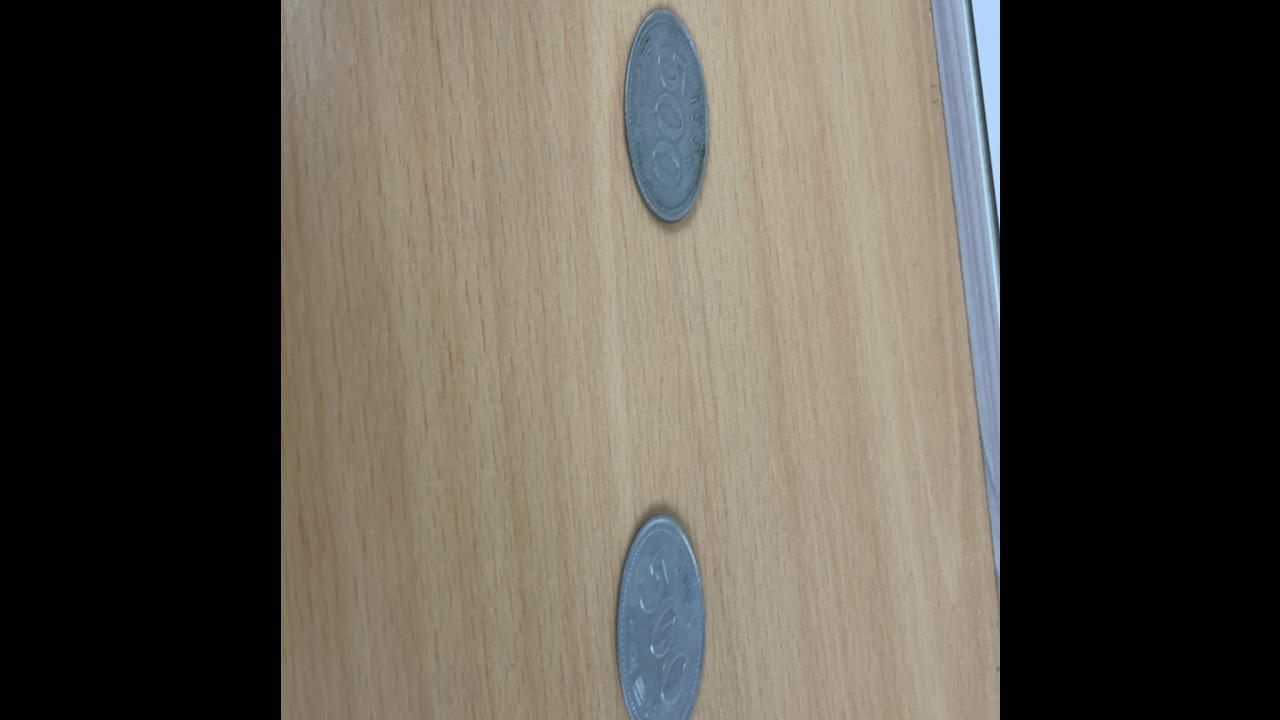coin: (622, 5, 708, 226), (614, 510, 704, 720)
